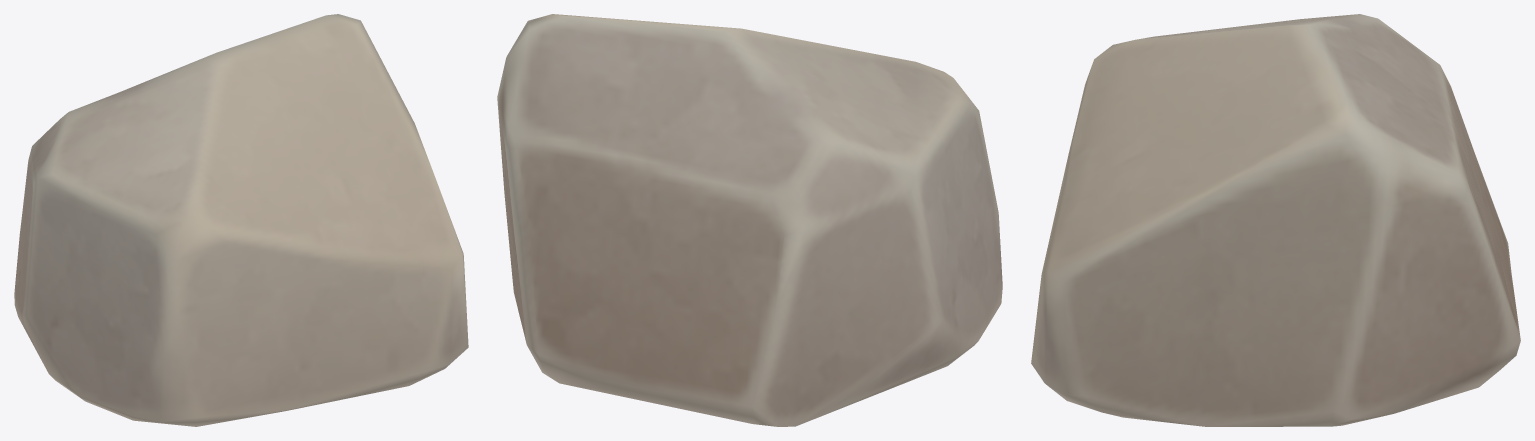
The model's file is rock2.gltf.
The picture shows the model from 3 angles, left to right: view 1: azimuth 30°, elevation 25°; view 2: azimuth 150°, elevation 25°; view 3: azimuth 270°, elevation 25°; orthographic projection. The views are drawn at different scales.
Parts seen in each view (by area): view 1: Rock4; view 2: Rock4; view 3: Rock4.
Boxes of the visible parts, x1=… form: Rock4: x1=14, y1=14, x2=468, y2=426; Rock4: x1=497, y1=14, x2=1002, y2=426; Rock4: x1=1031, y1=14, x2=1520, y2=426.
Size of the model in its own units: 0.4404 by 0.3139 by 0.4421.
Materials: 1 (1 with a texture image).
